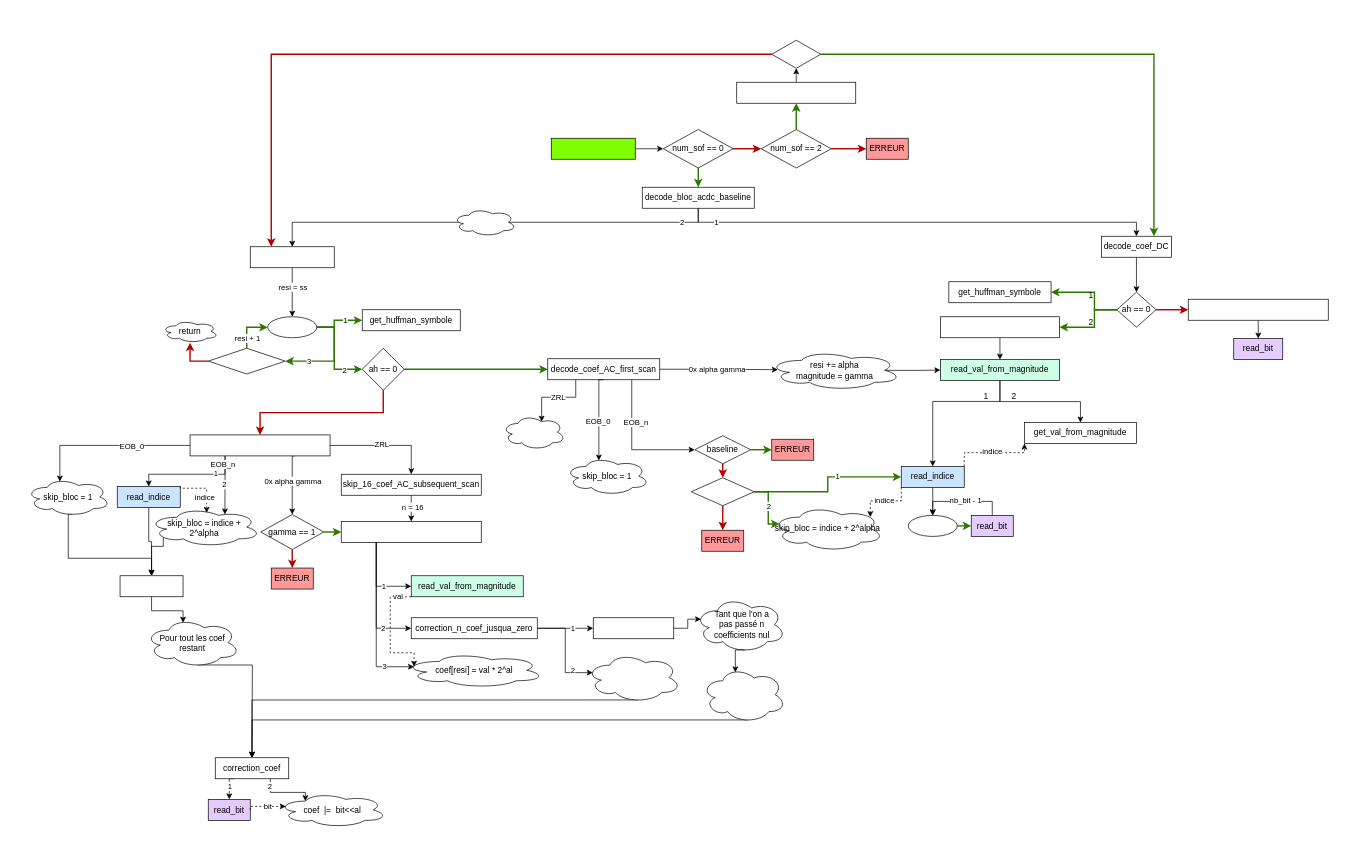
Some shapes in this 1368 by 864 pixel diagram are drawn without their labels. The centre of each missing label's shape, as x and y in pixels:
"correction_eob" goes at [151,586].
"correction_n_coef" goes at [633,628].
"decode_bloc_acdc" goes at [593,148].
"decode_bloc_acdc_progressif" goes at [796,92].
"decode_coef_AC_subsequent_scan" goes at [259,445].
"decode_coef_DC_first_scan" goes at [999,327].
"decode_coef_DC_subsequent_scan" goes at [1258,309].
"decode_list_coef_AC" goes at [292,257].
"Jusqu'au prochain coefficient nul" goes at [633,677].
"nb_bit > 0" goes at [932,525].
"Pour chaque coefficient non nul" goes at [743,694].
"progressif" goes at [722,491].
"resi += 16" goes at [533,432].
"resi <= se" goes at [292,327].
"skip_bloc == 0" goes at [246,361].
"skip_n_coef_AC_subsequent_scan" goes at [411,531].
"ss = 1" goes at [484,222].
"ss == 0" goes at [796,54].
